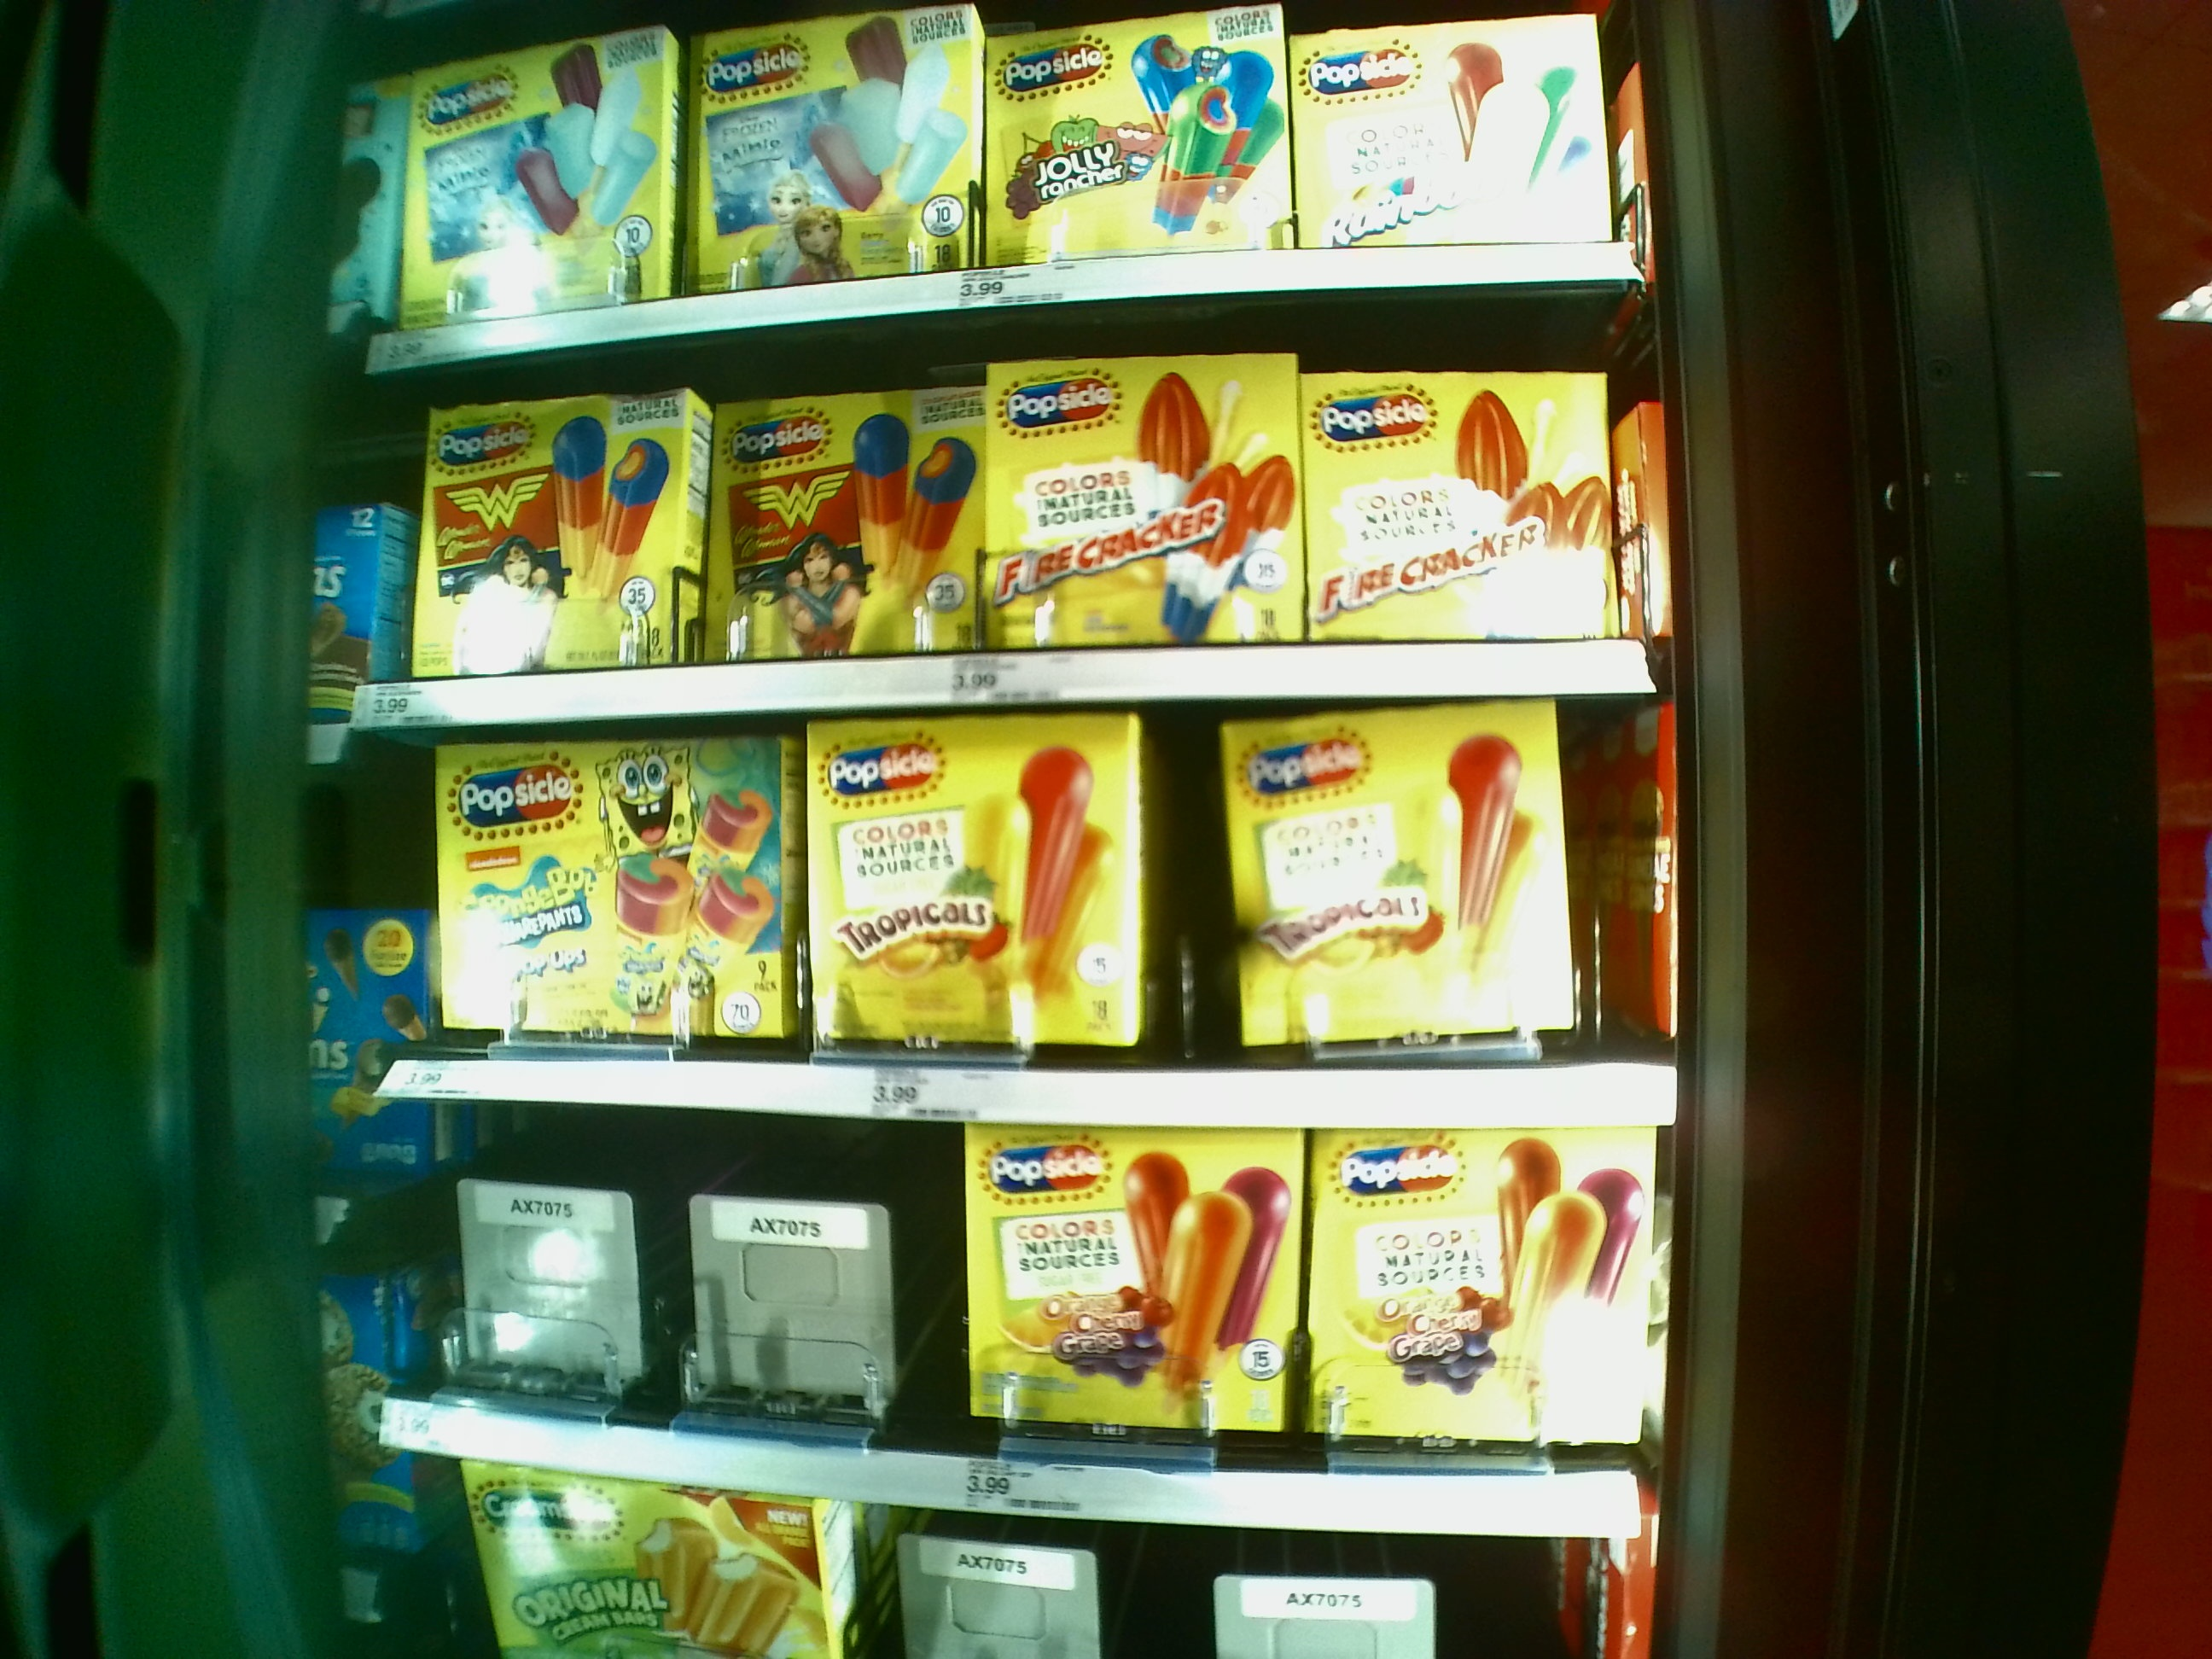shelf: (373, 725, 1679, 1134), (411, 1122, 1642, 1540), (374, 362, 1655, 706), (369, 35, 1635, 305)
